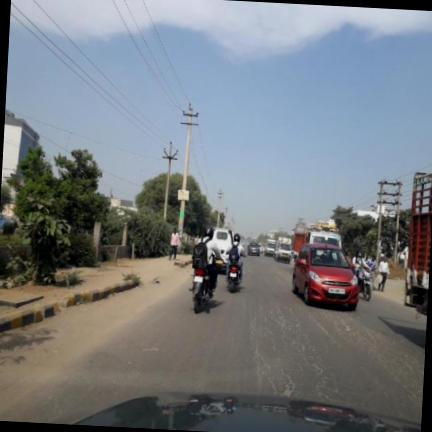Road: (0, 256, 426, 422)
